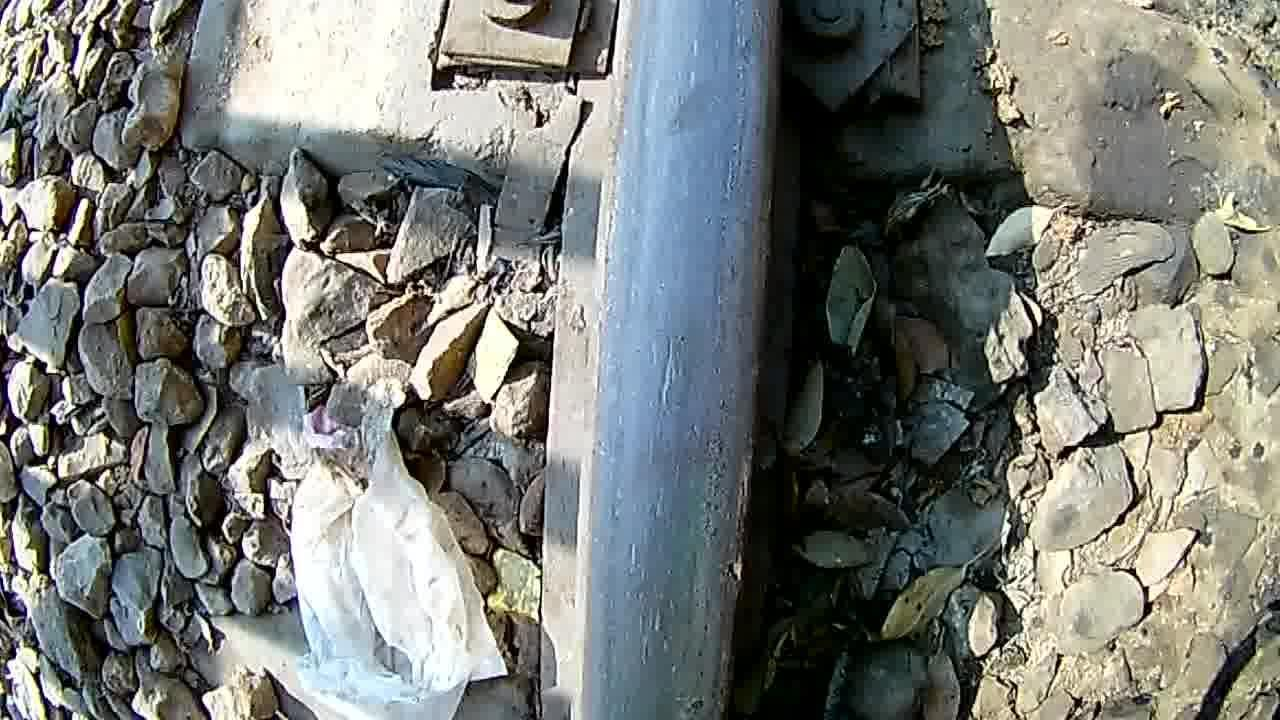crack: (592, 0, 788, 714)
